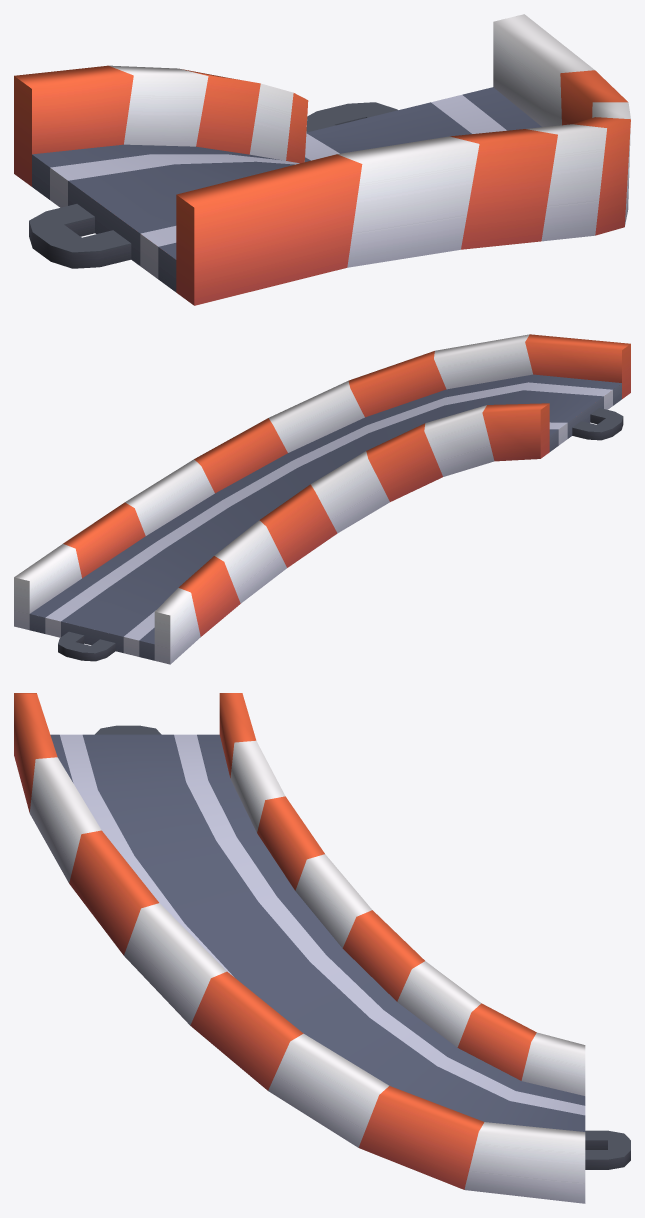
Rendered from track-road-narrow-corner-small-ramp.glb.
3 views of the same model, one above another, from view 1: azimuth 30°, elevation 25°; view 2: azimuth 150°, elevation 25°; view 3: azimuth 270°, elevation 25° (orthographic). The views are drawn at different scales.
Visible parts, largest first — view 1: track-road-narrow-corner-small-ramp; view 2: track-road-narrow-corner-small-ramp; view 3: track-road-narrow-corner-small-ramp.
Boxes of the visible parts, x1,y1,x2,y2 form: track-road-narrow-corner-small-ramp: [14, 14, 630, 305]; track-road-narrow-corner-small-ramp: [14, 334, 630, 664]; track-road-narrow-corner-small-ramp: [14, 693, 630, 1203].
Size of the model in its own units: 2.7 by 1.3 by 2.7.
Materials: 1 (1 with a texture image).
